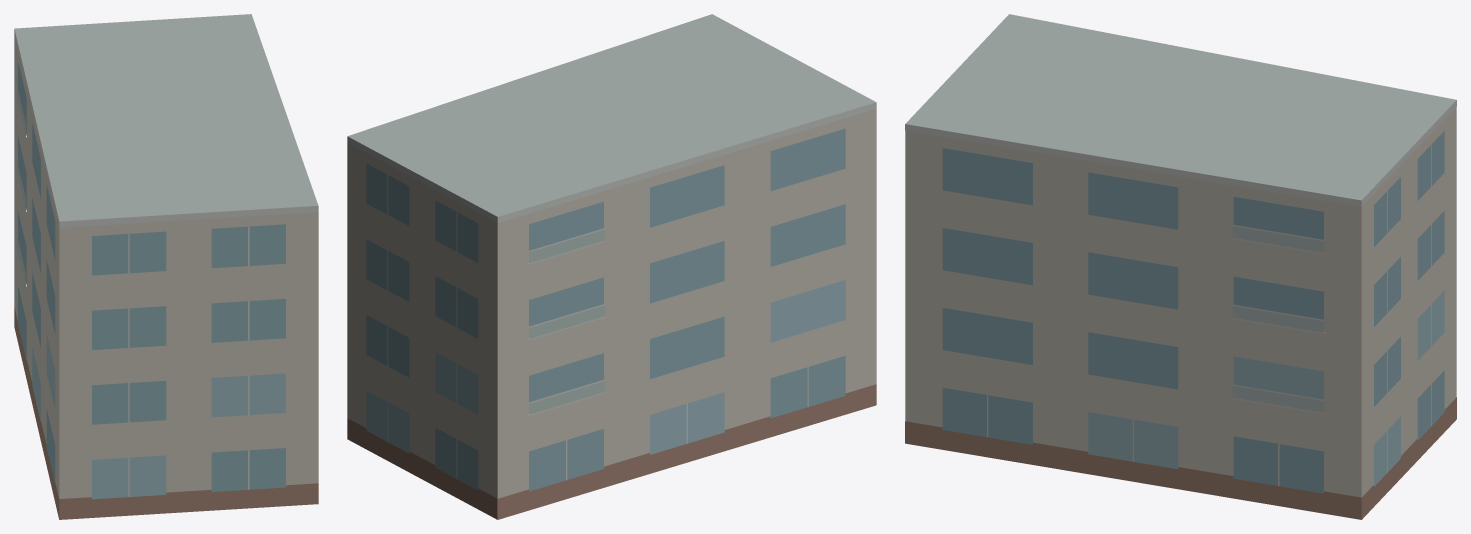
The model's file is survey-upis-33034455.glb.
The picture shows the model from 3 angles, left to right: view 1: azimuth 30°, elevation 25°; view 2: azimuth 150°, elevation 25°; view 3: azimuth 270°, elevation 25°; orthographic projection. The views are drawn at different scales.
Visible parts, largest first — view 1: survey-upis-33034455.tmp; view 2: survey-upis-33034455.tmp; view 3: survey-upis-33034455.tmp.
Boxes of the visible parts, x1,y1,x2,y2 form: survey-upis-33034455.tmp: [14, 14, 318, 519]; survey-upis-33034455.tmp: [347, 14, 876, 519]; survey-upis-33034455.tmp: [905, 14, 1456, 519].
Bounding box in the file's own units: 14.53 × 11.6 × 18.17.
